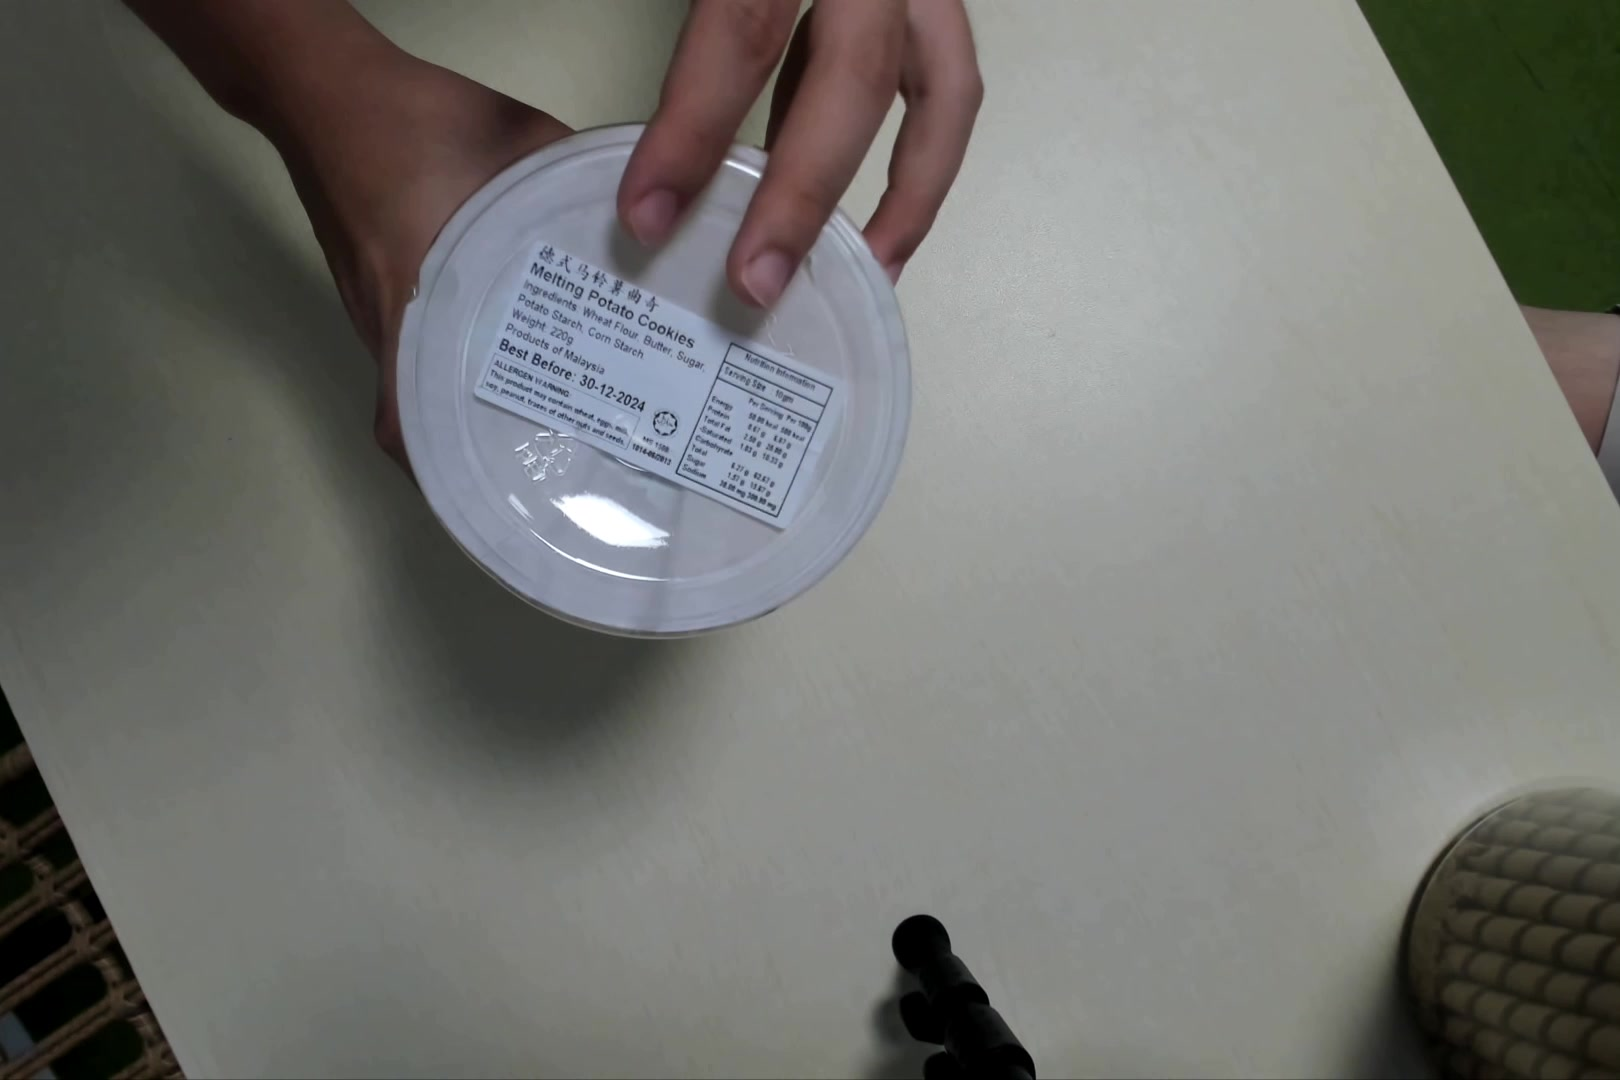BiscuitsCrackersCookies_200-299g_Halal_NonHealthy: (392, 119, 912, 633)
